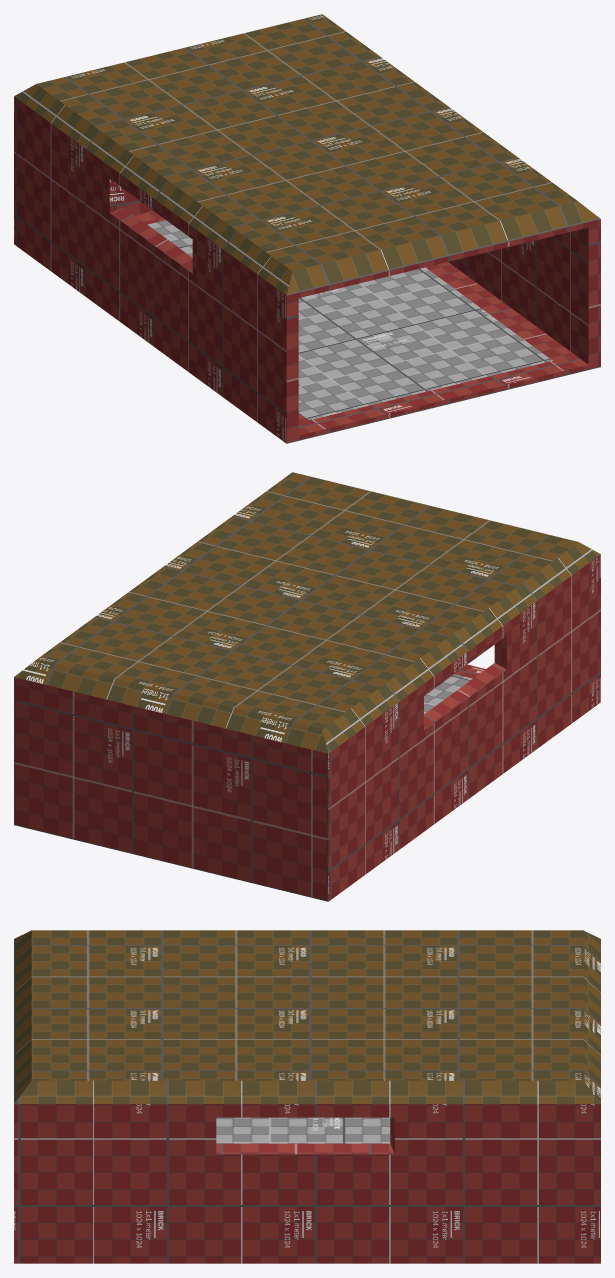
The model's file is garage.fbx.
3 renders of one model, top to bottom at view 1: azimuth 30°, elevation 25°; view 2: azimuth 150°, elevation 25°; view 3: azimuth 270°, elevation 25°, orthographic. The views are drawn at different scales.
Parts seen in each view (by area): view 1: Garage; view 2: Garage; view 3: Garage.
Boxes of the visible parts, <box> form: Garage: <box>14,14,600,443</box>; Garage: <box>14,472,600,901</box>; Garage: <box>14,930,600,1263</box>.
Size of the model in its own units: 578 by 286 by 868.
Materials: 3 (3 with a texture image).
